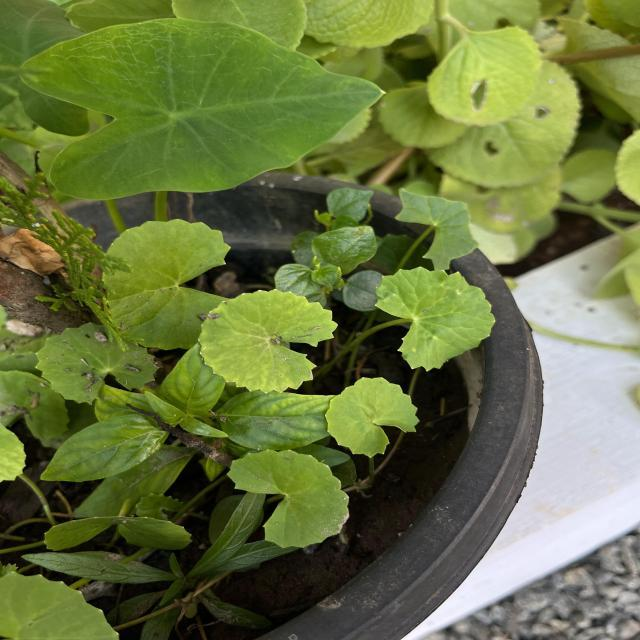Centella asiatica: (98, 216, 235, 354), (196, 286, 341, 397), (372, 263, 498, 375), (223, 445, 353, 551), (322, 374, 423, 461)
